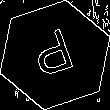P_S: (28, 25, 82, 85)
